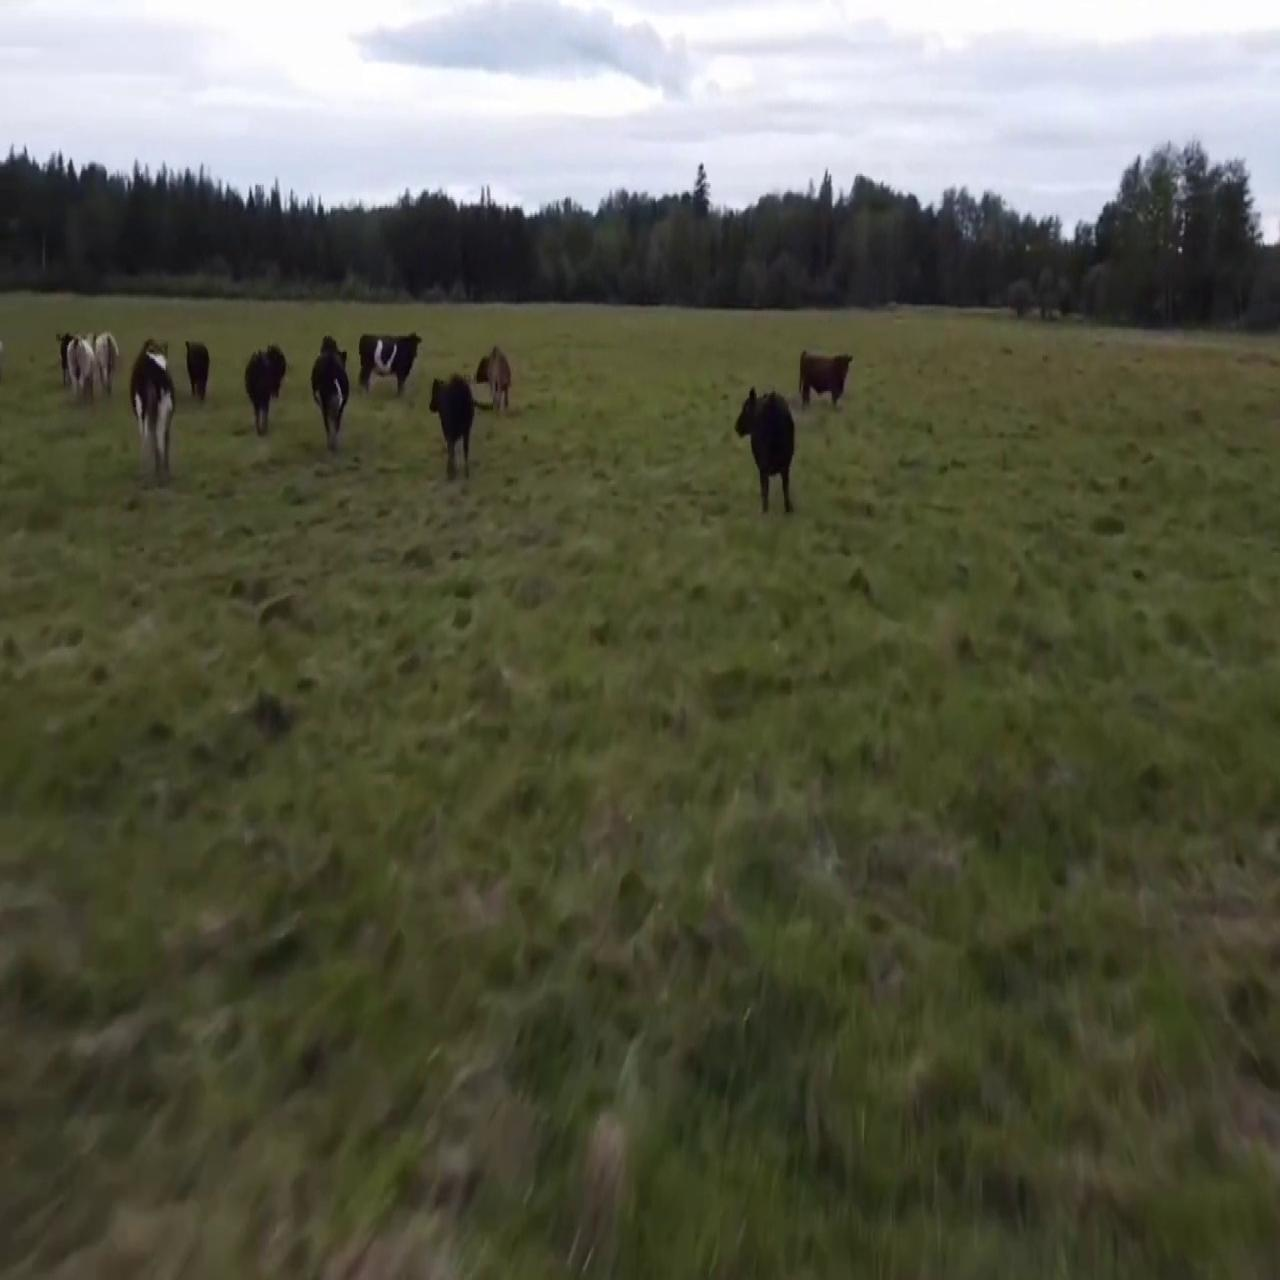cow: (729, 377, 806, 519), (122, 339, 185, 485), (234, 328, 298, 440), (422, 365, 479, 484), (305, 331, 360, 452), (350, 321, 424, 406), (52, 319, 105, 406), (796, 339, 857, 413), (472, 338, 520, 418), (183, 325, 219, 413), (90, 312, 123, 396)
